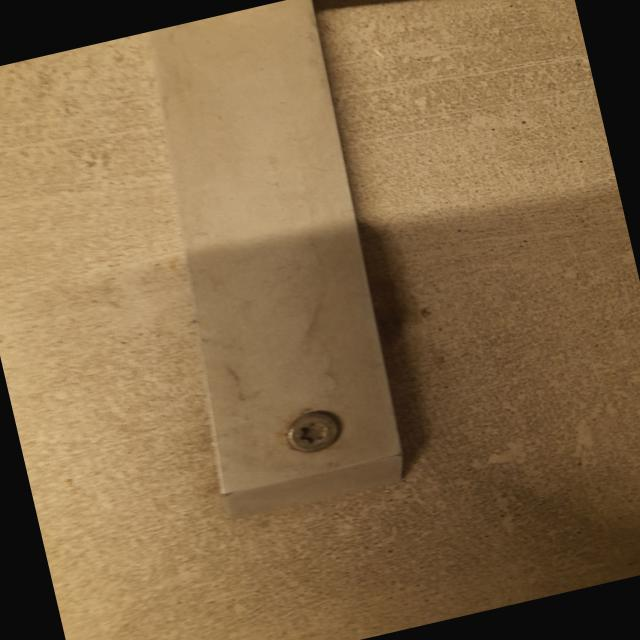Torx: (278, 402, 349, 458)
